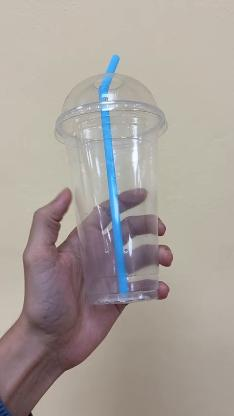Plastic Cup: (54, 72, 168, 306)
